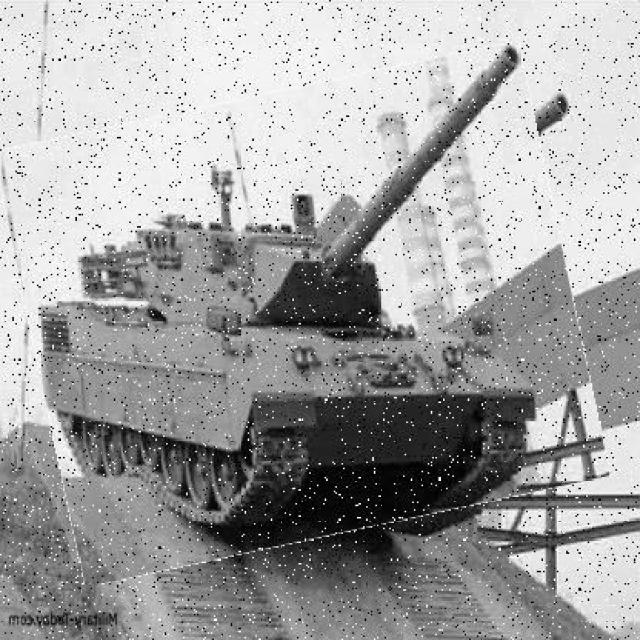Tank: (15, 66, 592, 563)
